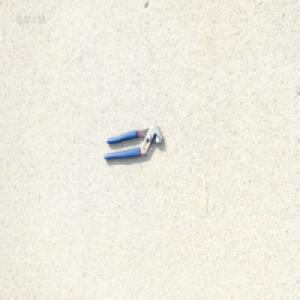Pliers: (103, 123, 163, 161)
